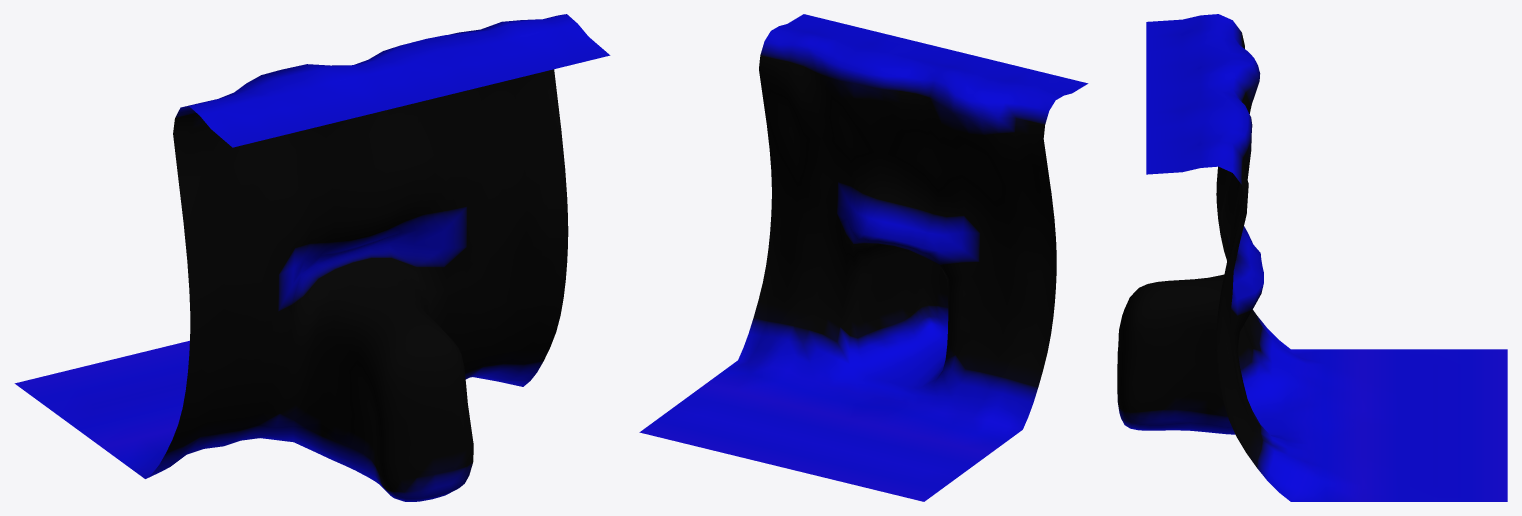
File: WaterFallCliff02B 3M.fbx
3 renders of one model, left to right at view 1: azimuth 30°, elevation 25°; view 2: azimuth 150°, elevation 25°; view 3: azimuth 270°, elevation 25°, orthographic. The views are drawn at different scales.
Visible parts, largest first — view 1: WaterFallCliff02B 3M; view 2: WaterFallCliff02B 3M; view 3: WaterFallCliff02B 3M.
Boxes of the visible parts, x1,y1,x2,y2 form: WaterFallCliff02B 3M: (14,14,610,501); WaterFallCliff02B 3M: (639,14,1088,501); WaterFallCliff02B 3M: (1117,14,1507,501).
Size of the model in its own units: 2 by 2.07 by 2.16.
